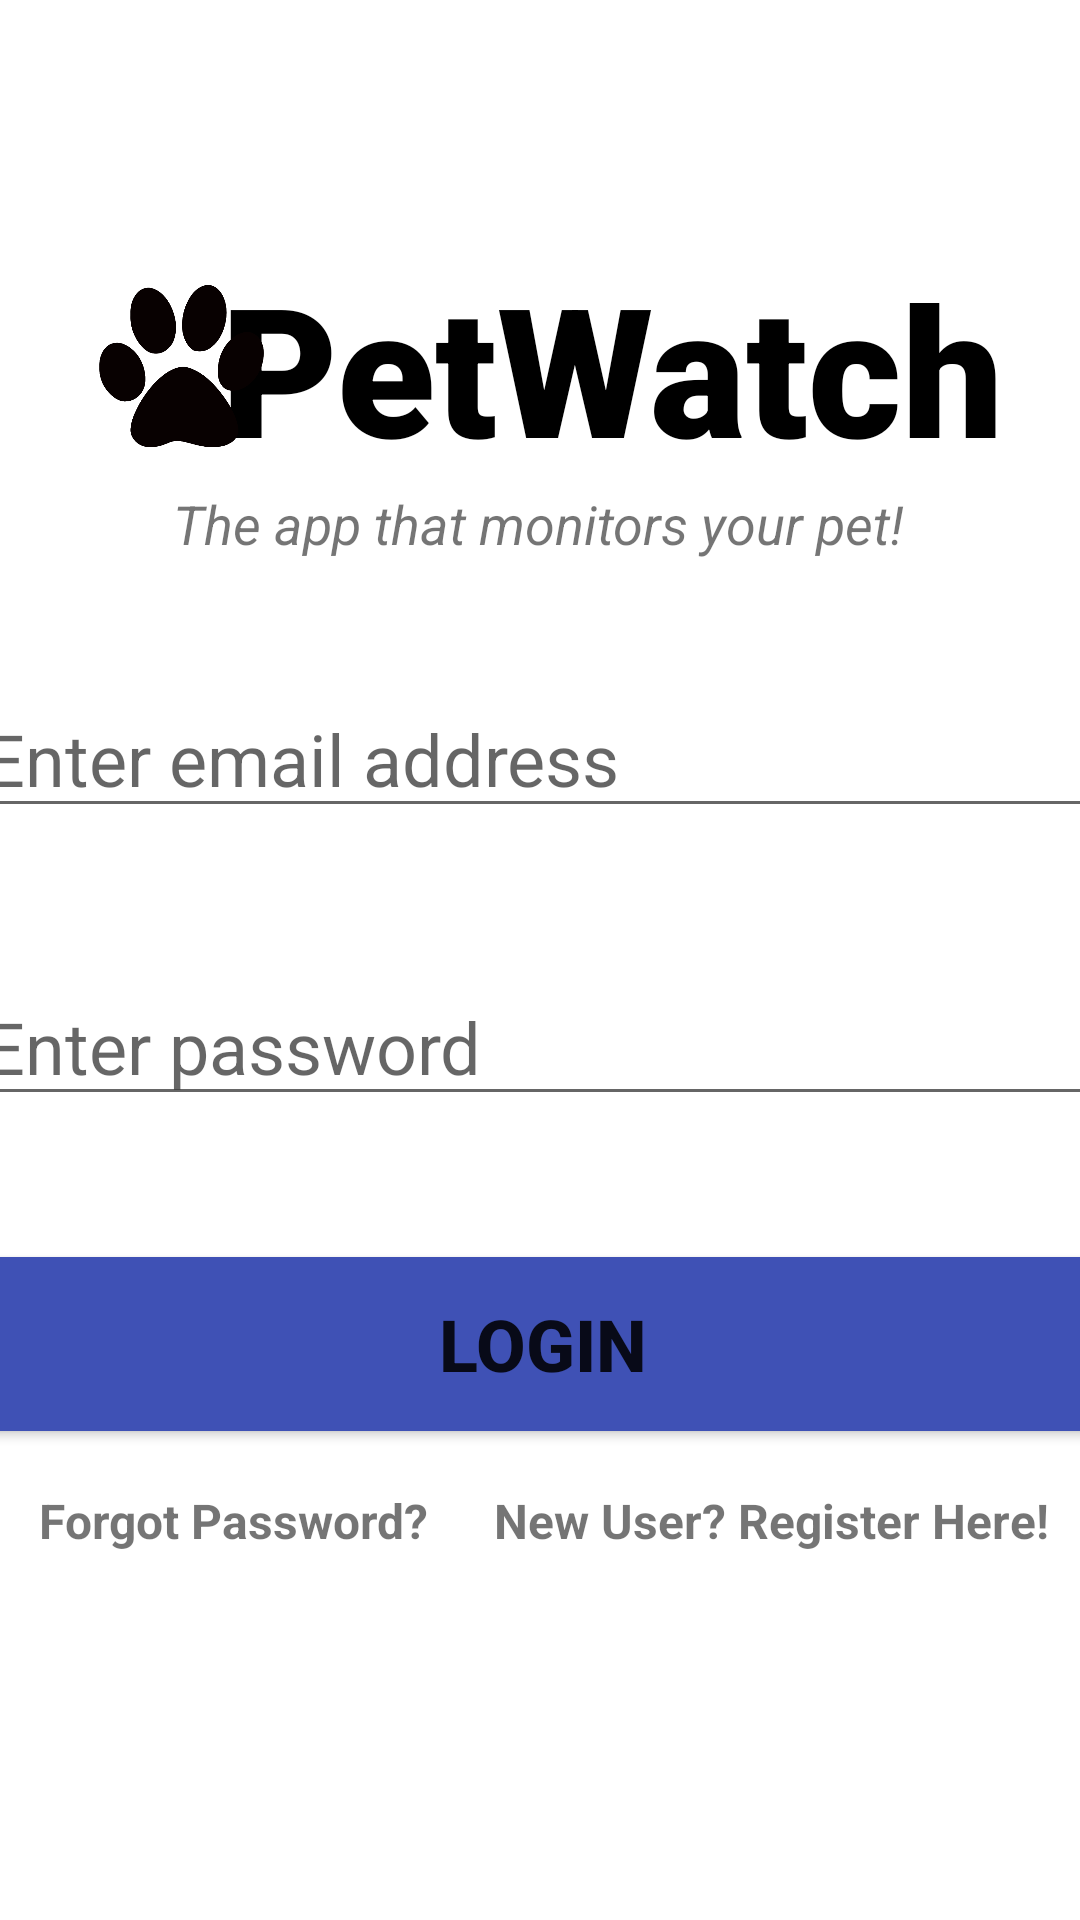

Icon bounding boxes for this 1080px×1920px phone screenshot, format rect(x1, y1, x2, y2):
paw: rect(99, 285, 279, 447)
